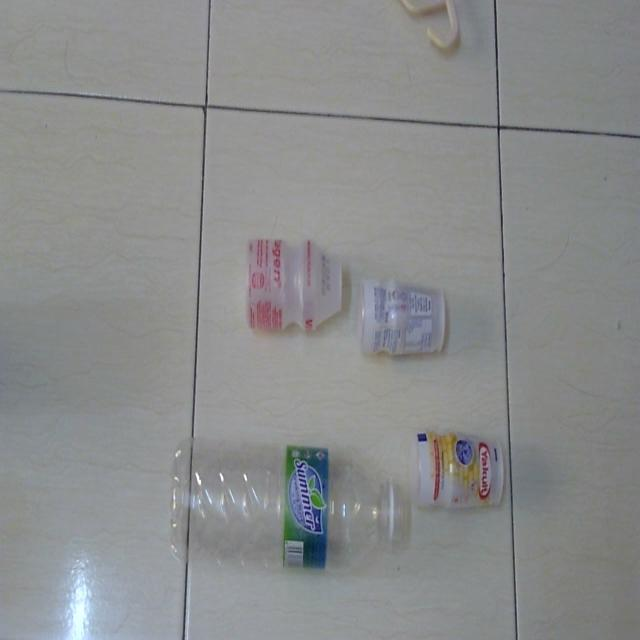plastic_laydown_0rotation: (170, 429, 404, 592), (243, 232, 345, 338), (354, 269, 448, 365), (410, 421, 506, 510)
